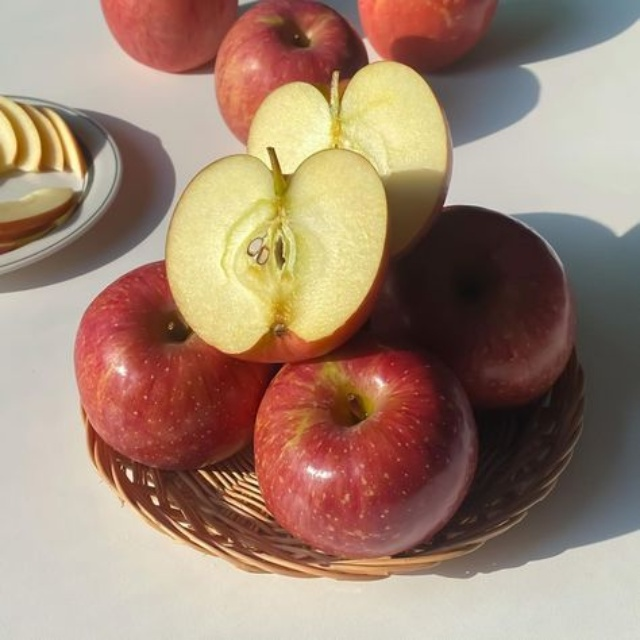sau_rieng: (148, 155, 405, 353), (259, 348, 483, 560), (77, 243, 265, 469)
